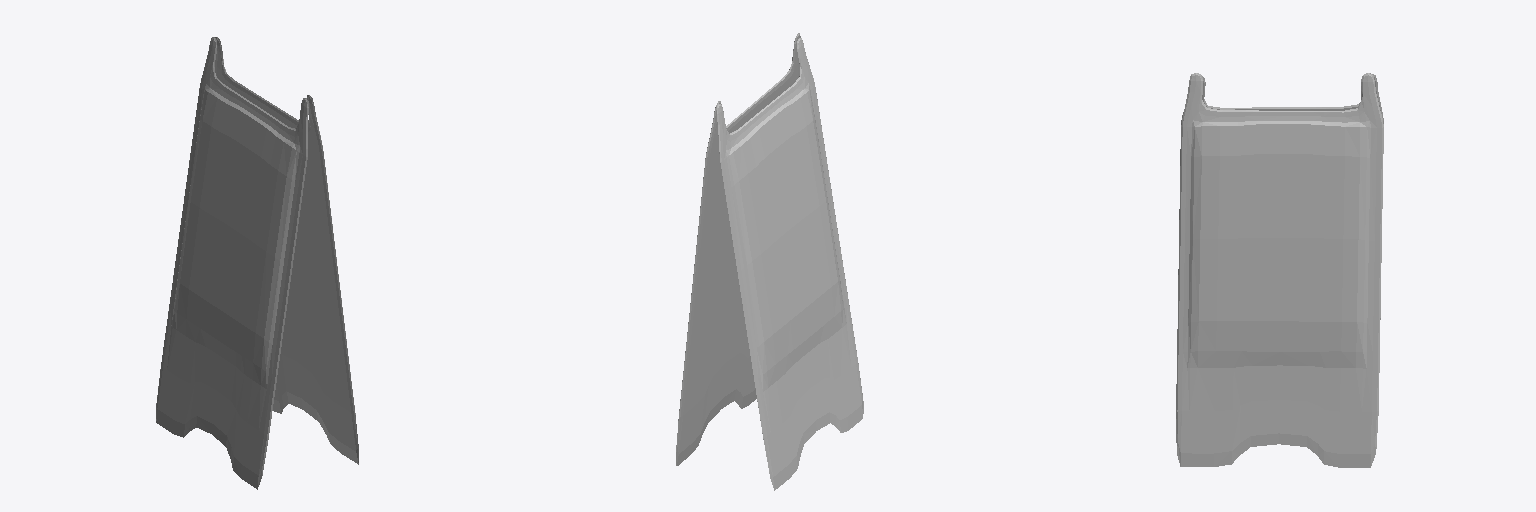
File: floorsign.obj
The picture shows the model from 3 angles: view 1: azimuth 30°, elevation 25°; view 2: azimuth 150°, elevation 25°; view 3: azimuth 270°, elevation 25°; orthographic projection.
Parts seen in each view (by area): view 1: Cube_Cube.001; view 2: Cube_Cube.001; view 3: Cube_Cube.001.
Boxes of the visible parts, <box> form: Cube_Cube.001: <box>156,37,358,489</box>; Cube_Cube.001: <box>676,33,863,490</box>; Cube_Cube.001: <box>1176,73,1383,467</box>.
Bounding box in the file's own units: 1.21 × 4.11 × 2.05.